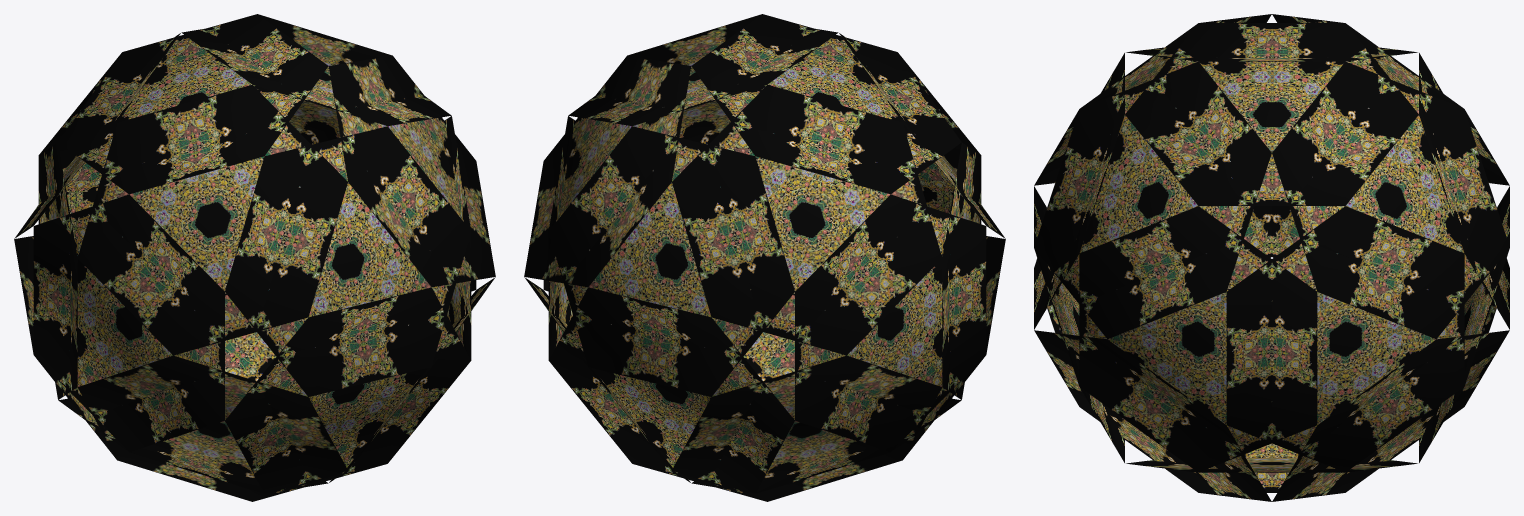
Rendered from SmallIcosicosidodecahedron4.gltf.
3 renders of one model, left to right at view 1: azimuth 30°, elevation 25°; view 2: azimuth 150°, elevation 25°; view 3: azimuth 270°, elevation 25°, orthographic. The views are drawn at different scales.
Parts seen in each view (by area): view 1: SmallIcosicosidodecahedron; view 2: SmallIcosicosidodecahedron; view 3: SmallIcosicosidodecahedron.
Boxes of the visible parts, x1,y1,x2,y2 form: SmallIcosicosidodecahedron: (14, 14, 495, 501); SmallIcosicosidodecahedron: (524, 14, 1005, 501); SmallIcosicosidodecahedron: (1034, 14, 1509, 501).
Size of the model in its own units: 3.24 by 3.24 by 3.24.
Materials: 1 (1 with a texture image).
